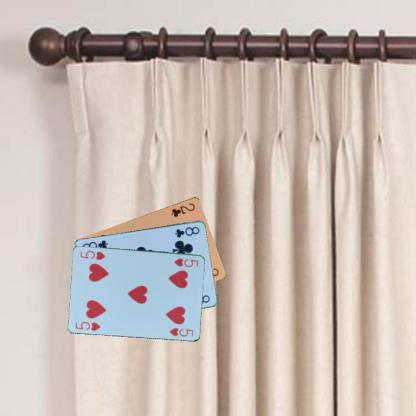2c: (169, 201, 196, 219)
5h: (72, 319, 102, 332), (172, 255, 199, 268)
8c: (172, 224, 201, 238)
